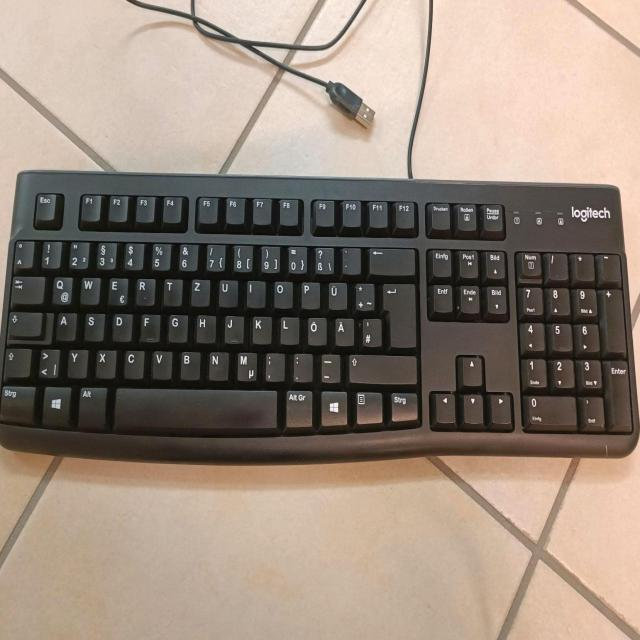0: (285, 243, 306, 273)
1: (39, 238, 60, 268)
2: (66, 238, 88, 268)
3: (94, 238, 116, 269)
4: (122, 239, 143, 269)
5: (148, 240, 170, 270)
6: (176, 240, 197, 270)
7: (204, 241, 224, 271)
8: (230, 241, 252, 272)
9: (258, 242, 279, 272)
a: (54, 309, 75, 340)
accent: (340, 244, 360, 274)
ae: (332, 315, 353, 345)
alt-left: (76, 384, 106, 426)
altgr-right: (283, 387, 313, 427)
b: (177, 347, 199, 378)
c: (122, 346, 143, 377)
caret: (12, 237, 33, 267)
comma: (262, 350, 284, 381)
d: (110, 310, 131, 340)
del: (367, 245, 413, 274)
e: (105, 275, 127, 305)
enter: (380, 281, 416, 347)
f: (138, 311, 159, 341)
g: (166, 311, 187, 341)
h: (194, 312, 215, 342)
hash: (359, 315, 380, 346)
i: (244, 278, 264, 307)
j: (222, 312, 243, 342)
k: (250, 313, 271, 343)
keyboard: (0, 166, 640, 464)
l: (277, 314, 298, 344)
less: (36, 345, 58, 377)
m: (234, 349, 256, 381)
minus: (318, 351, 339, 382)
n: (206, 349, 228, 379)
o: (271, 278, 292, 308)
oe: (305, 314, 325, 344)
p: (298, 278, 319, 308)
plus: (352, 280, 373, 310)
point: (290, 351, 311, 381)
q: (49, 273, 71, 303)
r: (133, 274, 154, 304)
s: (81, 310, 103, 340)
shift-left: (2, 345, 30, 377)
shift-lock: (6, 309, 42, 336)
shift-right: (346, 351, 416, 382)
space: (113, 385, 277, 431)
ss: (311, 244, 333, 274)
strg-left: (0, 381, 34, 421)
strg-right: (388, 389, 418, 421)
t: (161, 275, 181, 305)
tab: (9, 273, 43, 303)
u: (216, 276, 237, 306)
ue: (326, 279, 346, 309)
v: (149, 348, 171, 378)
w: (78, 273, 99, 303)
x: (93, 346, 115, 377)
y: (65, 346, 87, 377)
z: (189, 275, 209, 305)
